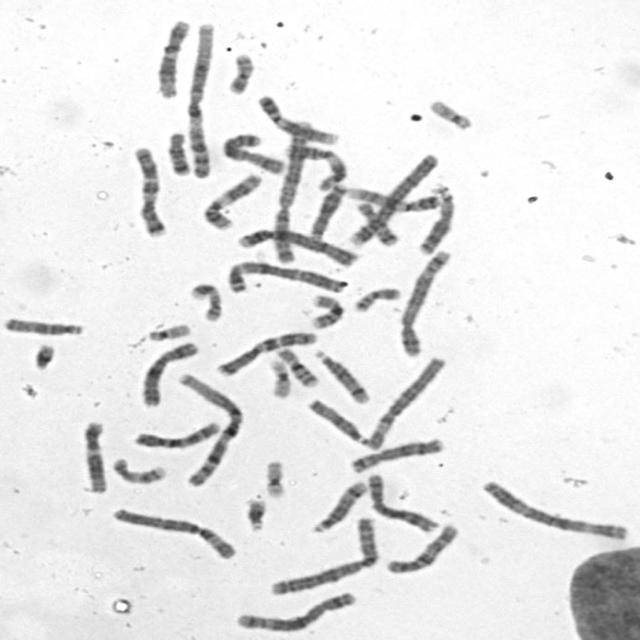A1: (172, 371, 246, 489), (182, 20, 216, 178)
A2: (266, 514, 380, 597), (273, 118, 314, 265)
A3: (478, 476, 631, 544), (221, 259, 349, 295)
B4: (345, 150, 440, 248), (234, 224, 360, 268)
B5: (395, 247, 454, 358), (230, 588, 358, 633)
C10: (382, 520, 462, 575), (129, 418, 225, 450)
C11: (199, 169, 263, 232), (280, 144, 349, 194)
C12: (153, 18, 192, 100), (80, 419, 111, 493)
C6: (361, 353, 448, 452), (108, 505, 238, 561)
C7: (213, 329, 320, 378), (131, 148, 170, 239)
C8: (364, 471, 440, 533), (346, 434, 445, 474)
C9: (254, 93, 341, 146), (343, 184, 442, 212)
D13: (413, 182, 458, 255), (304, 180, 349, 241)
D14: (310, 347, 372, 405), (307, 477, 368, 534)
D15: (305, 396, 372, 448), (1, 315, 86, 337)
E16: (272, 344, 320, 390), (306, 292, 346, 330)
E17: (110, 454, 168, 486), (188, 280, 223, 324)
E18: (355, 201, 399, 248), (163, 128, 192, 177)
F19: (265, 358, 294, 400), (261, 458, 288, 500)
F20: (351, 284, 403, 314), (225, 50, 257, 96)
G21: (241, 495, 269, 533), (30, 342, 57, 371)
G22: (426, 96, 474, 131), (144, 321, 192, 342)
X: (137, 339, 202, 408), (218, 131, 288, 176)
